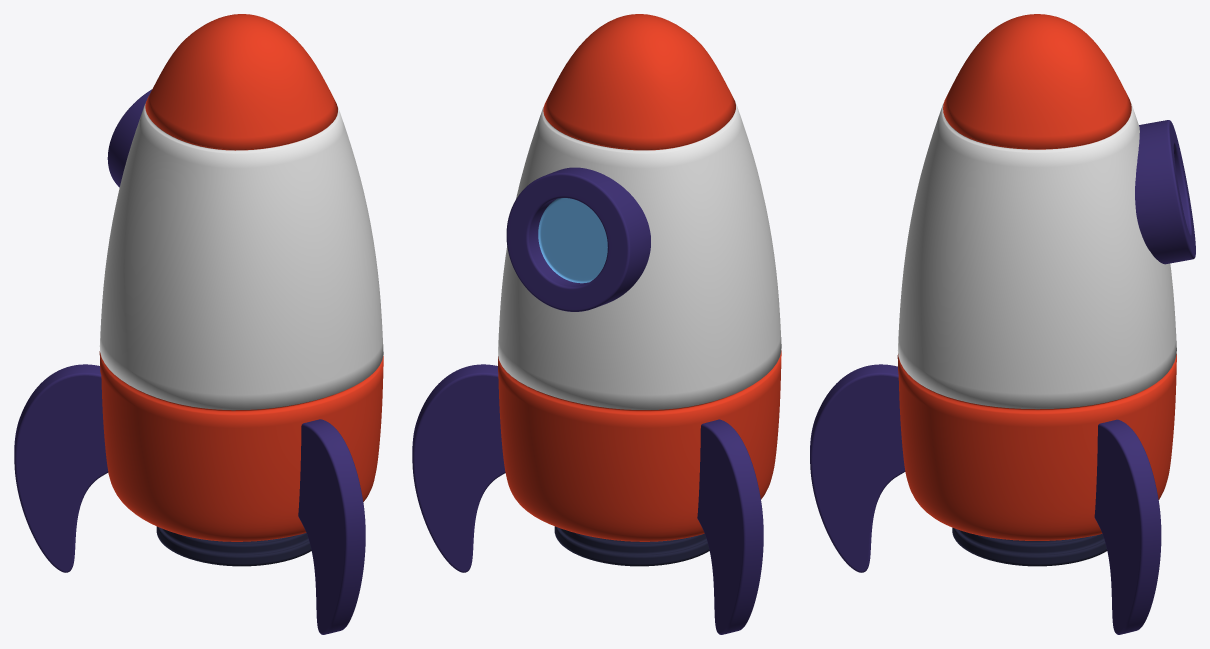
Rendered from rocket_final.fbx.
3 views of the same model, side by side, from view 1: azimuth 30°, elevation 25°; view 2: azimuth 150°, elevation 25°; view 3: azimuth 270°, elevation 25° (orthographic).
Parts seen in each view (by area): view 1: Cube, BezierCircle.002, BezierCircle.001; view 2: Cube, BezierCircle, BezierCircle.002; view 3: Cube, BezierCircle.001, BezierCircle.
Part boxes in pixels (left/top/right/bottom): Cube: left=99, top=14, right=383, bottom=566; BezierCircle.002: left=14, top=364, right=108, bottom=572; BezierCircle.001: left=298, top=419, right=365, bottom=634; Cube: left=498, top=14, right=781, bottom=566; BezierCircle: left=412, top=364, right=505, bottom=572; BezierCircle.002: left=697, top=419, right=763, bottom=634; Cube: left=897, top=14, right=1195, bottom=566; BezierCircle.001: left=810, top=364, right=905, bottom=572; BezierCircle: left=1094, top=419, right=1161, bottom=634.
Bounding box in the file's own units: 277 × 415 × 265.
